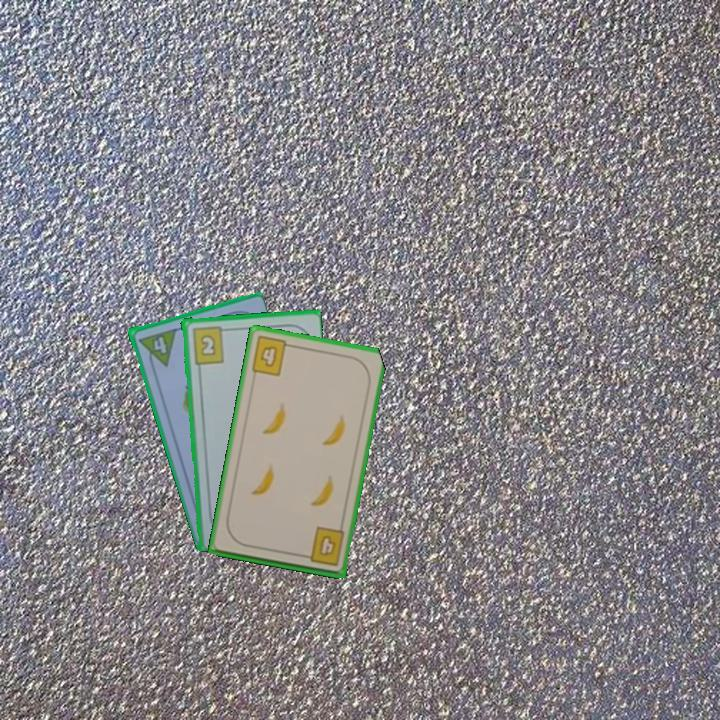2b: (189, 323, 230, 366)
4b: (247, 332, 296, 379), (299, 523, 347, 569)
4p: (134, 325, 178, 372)
